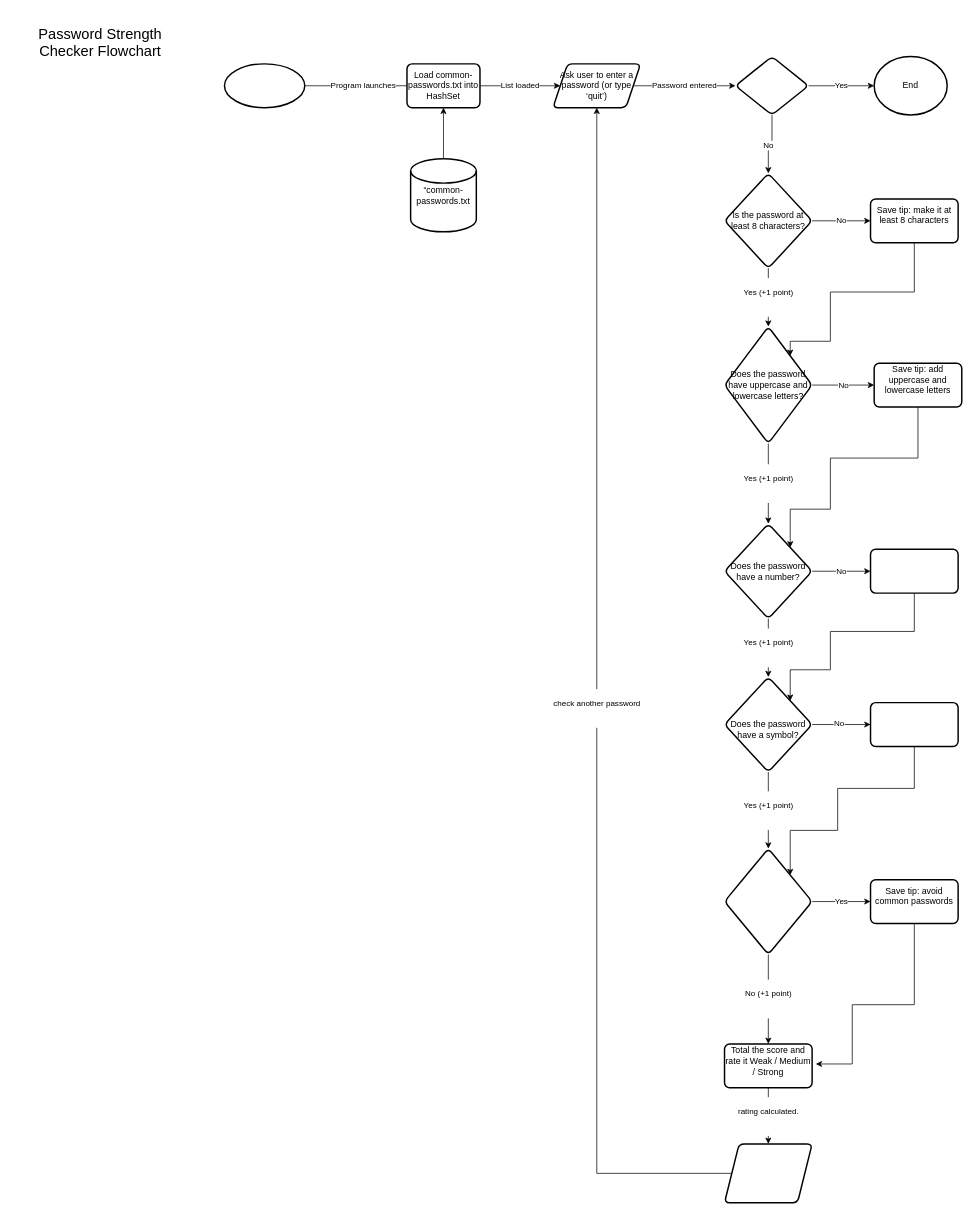
Image size: 975x1215. Some labels were removed from this diagram. Each missing label, with the centre of its shape:
"Did the user type ‘quit’?" goes at point (771, 85).
"Is the password on the common password list?" goes at point (767, 901).
"Print the rating and tip/s to user" goes at point (767, 1173).
"Save tip: add a number" goes at point (913, 570).
"Save tip: add a symbol like ! or #" goes at point (913, 724).
"Start" goes at point (264, 85).
